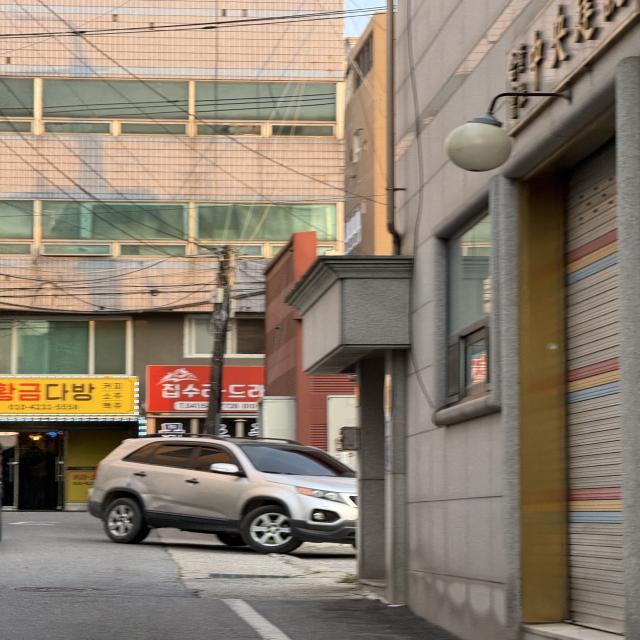car: (85, 431, 358, 556)
